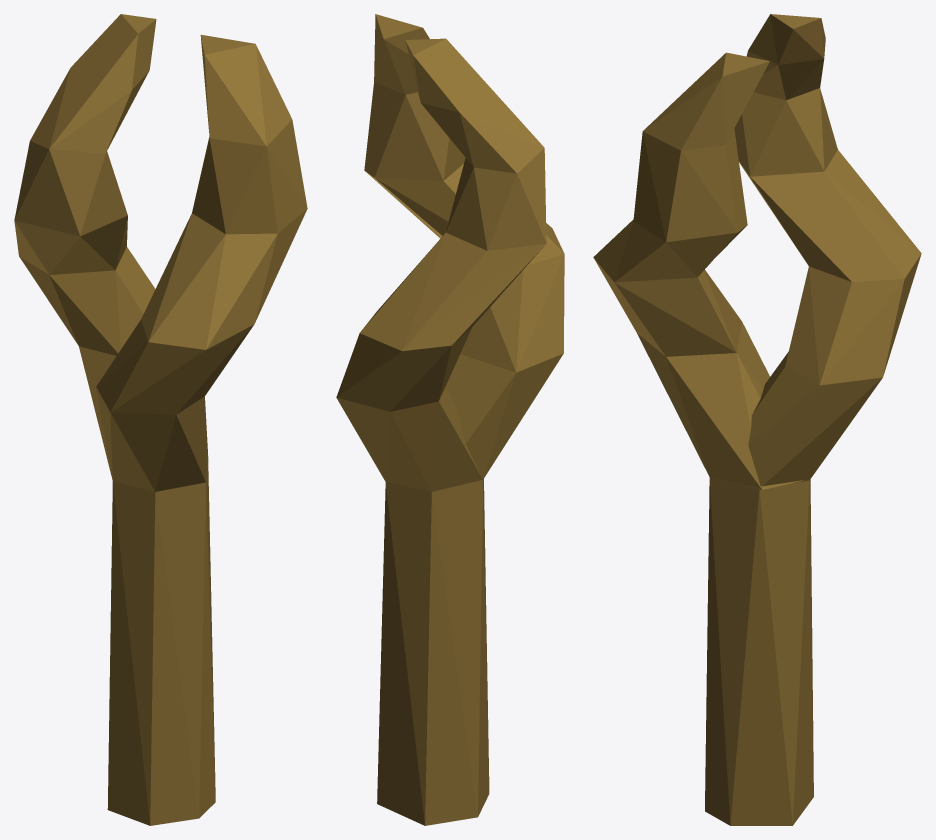
The model's file is deserttree2.fbx.
3 views of the same model, side by side, from view 1: azimuth 30°, elevation 25°; view 2: azimuth 150°, elevation 25°; view 3: azimuth 270°, elevation 25° (orthographic).
Parts seen in each view (by area): view 1: deserttree2; view 2: deserttree2; view 3: deserttree2.
Part boxes in pixels (x1,y1,x2,y2): deserttree2: (14, 14, 307, 825); deserttree2: (336, 14, 564, 825); deserttree2: (593, 14, 921, 825).
Size of the model in its own units: 492 by 1569 by 596.
